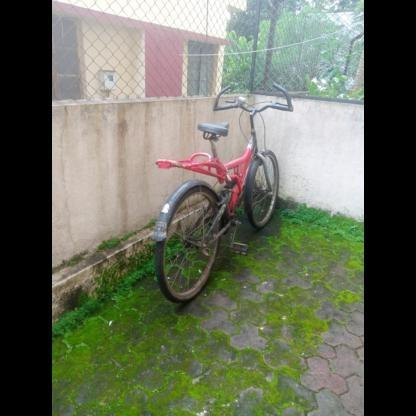Bicycle: (142, 72, 311, 305)
